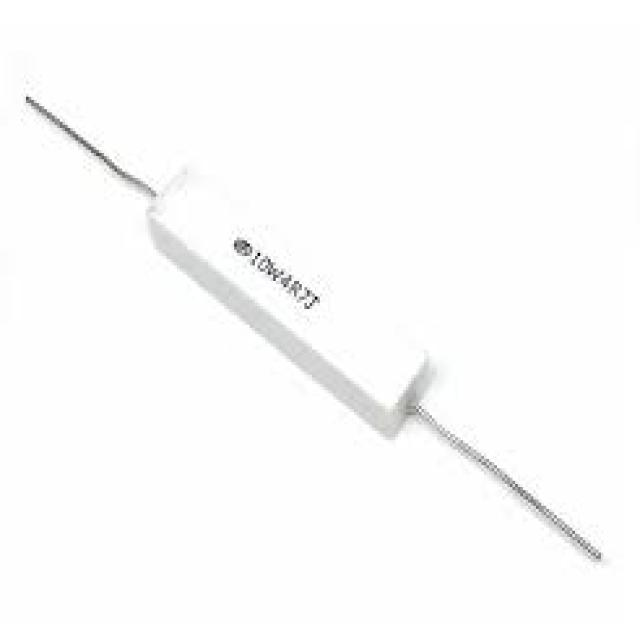Resistor: (148, 166, 426, 434)
